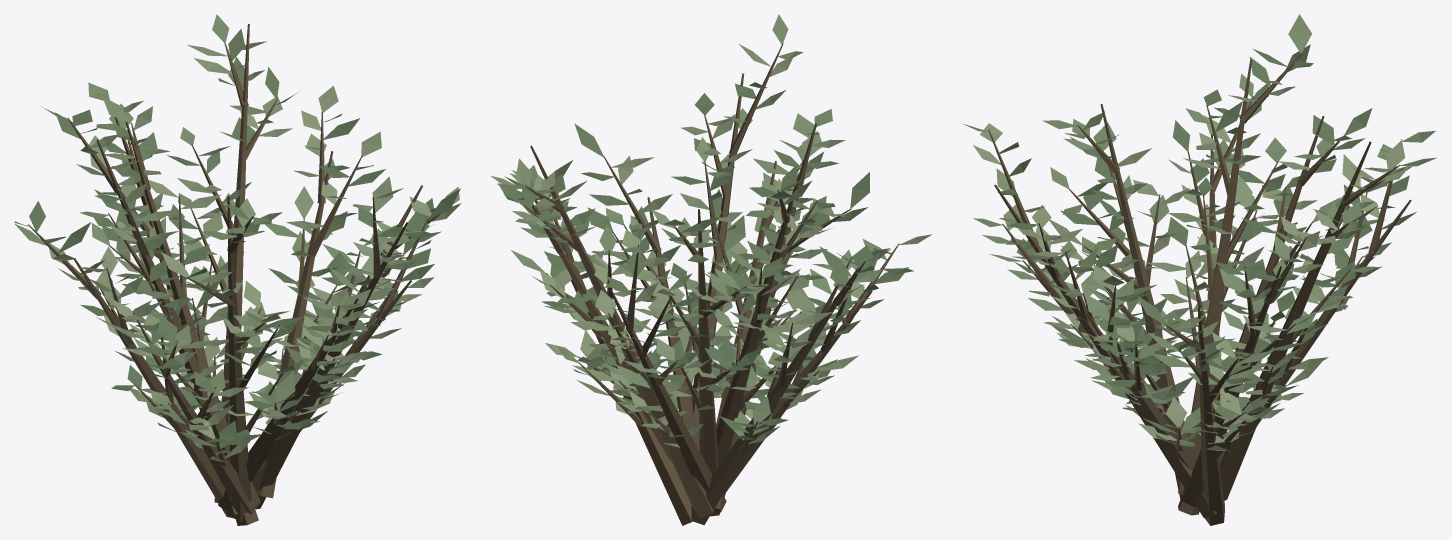
Rendered from bush_18.glb.
The picture shows the model from 3 angles, left to right: view 1: azimuth 30°, elevation 25°; view 2: azimuth 150°, elevation 25°; view 3: azimuth 270°, elevation 25°; orthographic projection.
Visible parts, largest first — view 1: bush_18; view 2: bush_18; view 3: bush_18.
Boxes of the visible parts, bbox=[...] form: bush_18: bbox=[14, 14, 461, 525]; bush_18: bbox=[491, 14, 931, 525]; bush_18: bbox=[962, 14, 1436, 525].
Size of the model in its own units: 1.81 by 1.78 by 1.79.
